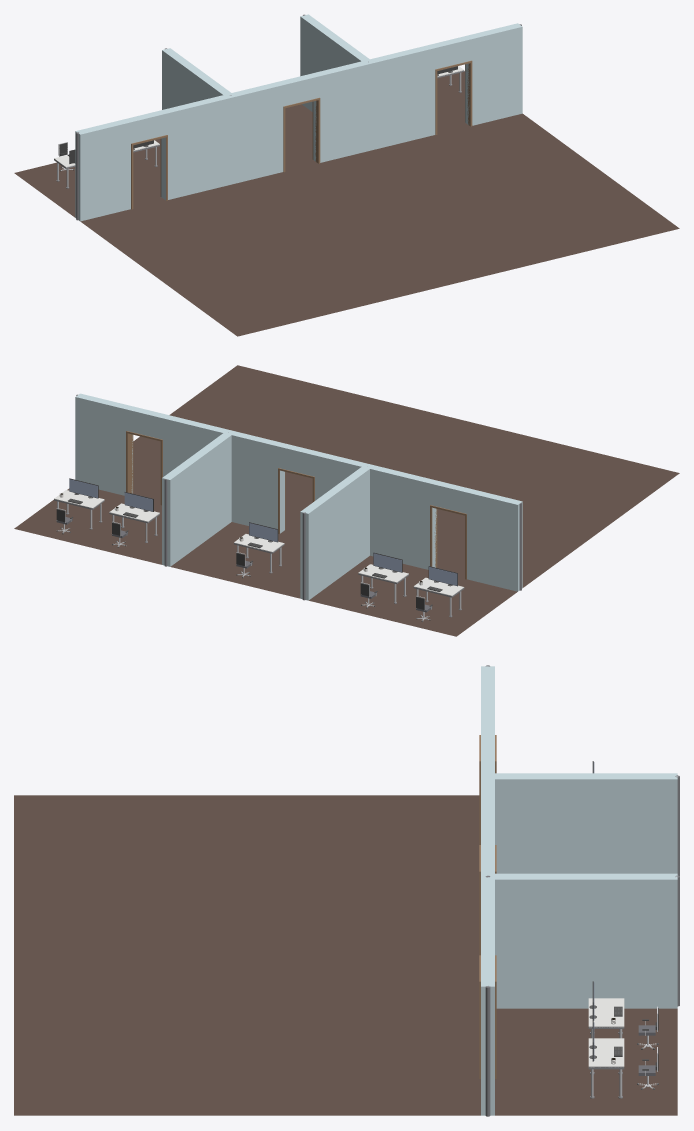
File: office_v63.glb
The picture shows the model from 3 angles, top to bottom: view 1: azimuth 30°, elevation 25°; view 2: azimuth 150°, elevation 25°; view 3: azimuth 270°, elevation 25°; orthographic projection. The views are drawn at different scales.
Parts seen in each view (by area): view 1: 平面, 立方體.001, 立方體.002, 立方體, 立方體.003, 立方體.008, 立方體.007, 立方體.004, 立方體.006, 立方體.005; view 2: 平面, 立方體.001, 立方體.002, 立方體.007, 立方體.008, 立方體, 立方體.003, 立方體.006, 立方體.004, 立方體.005, 立方體.016, 立方體.267 (+4 smaller); view 3: 平面, 立方體.008, 立方體.007, 立方體.003, 立方體.001, 立方體.002, 立方體.267, 立方體.350, 圓柱體.005.
Part boxes in pixels (<box>): 平面: <box>14,71,679,336</box>; 立方體.001: <box>161,81,284,200</box>; 立方體.002: <box>313,44,436,162</box>; 立方體: <box>75,118,132,221</box>; 立方體.003: <box>465,23,522,125</box>; 立方體.008: <box>300,14,369,111</box>; 立方體.007: <box>162,48,230,109</box>; 立方體.004: <box>128,110,165,142</box>; 立方體.006: <box>432,36,470,68</box>; 立方體.005: <box>280,73,317,105</box>; 平面: <box>14,365,679,636</box>; 立方體.001: <box>313,451,436,569</box>; 立方體.002: <box>161,414,284,533</box>; 立方體.007: <box>300,467,369,600</box>; 立方體.008: <box>162,433,231,566</box>; 立方體: <box>465,488,522,591</box>; 立方體.003: <box>75,393,132,495</box>; 立方體.006: <box>128,406,165,439</box>; 立方體.004: <box>432,480,469,513</box>; 立方體.005: <box>280,443,317,476</box>; 立方體.016: <box>126,433,133,493</box>; 立方體.267: <box>109,503,159,522</box>; 平面: <box>14,795,677,1115</box>; 立方體.008: <box>495,873,677,1008</box>; 立方體.007: <box>495,773,677,873</box>; 立方體.003: <box>481,948,494,1115</box>; 立方體.001: <box>481,728,494,814</box>; 立方體.002: <box>481,838,494,924</box>; 立方體.267: <box>588,998,624,1027</box>; 立方體.350: <box>588,1038,624,1067</box>; 圓柱體.005: <box>485,986,490,1116</box>.
Size of the model in its own units: 16.1 by 3 by 14.05.
